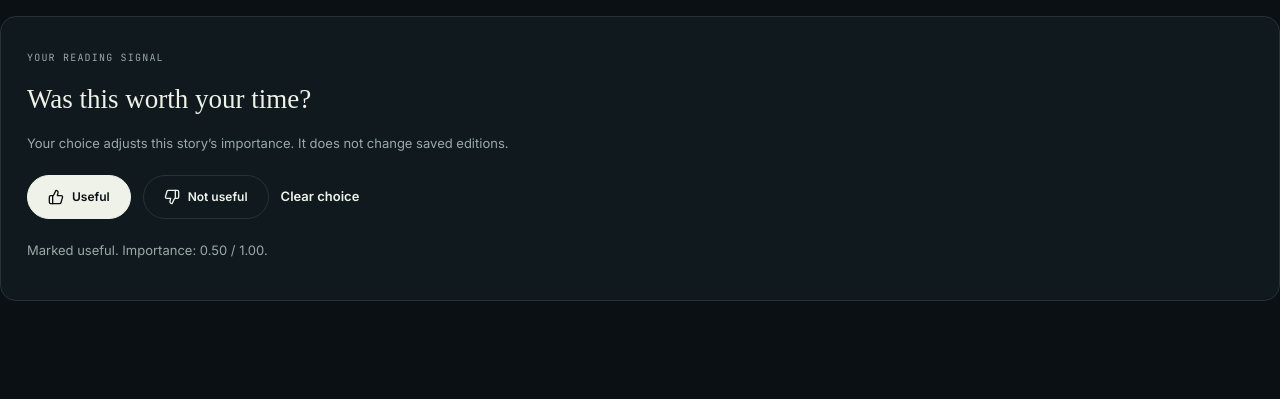
Test case: preserves confirmed choice on failure, hides upstream errors and allows a read retry
This screenshot has width=1280, height=399.
Later steps or results of the test are not shown.
Expected: the button "Useful" is enabled, [27,175,131,219]
Click the button "Not useful".
click(206, 197)  # box [143,175,269,219]
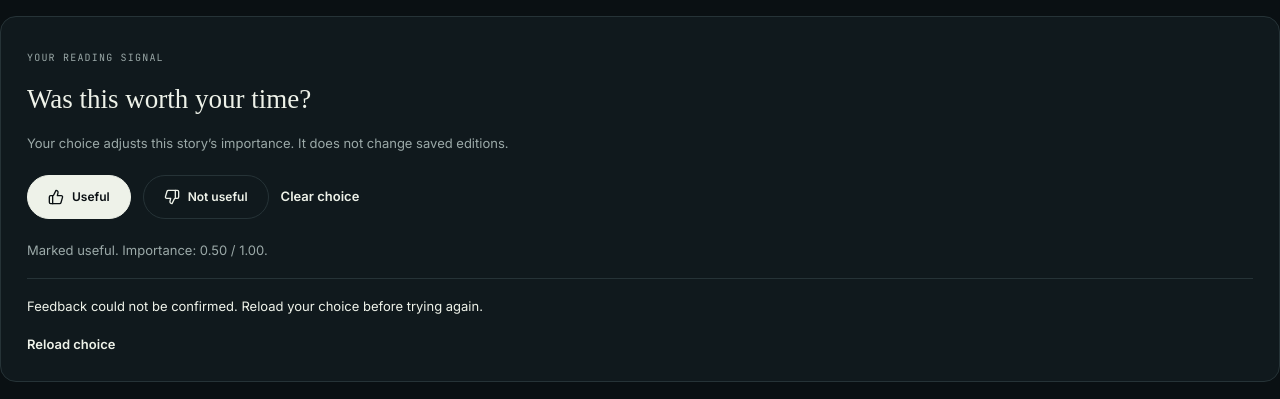
Result: the 2nd message shows "could not be confirmed" at [27,298,483,314]
